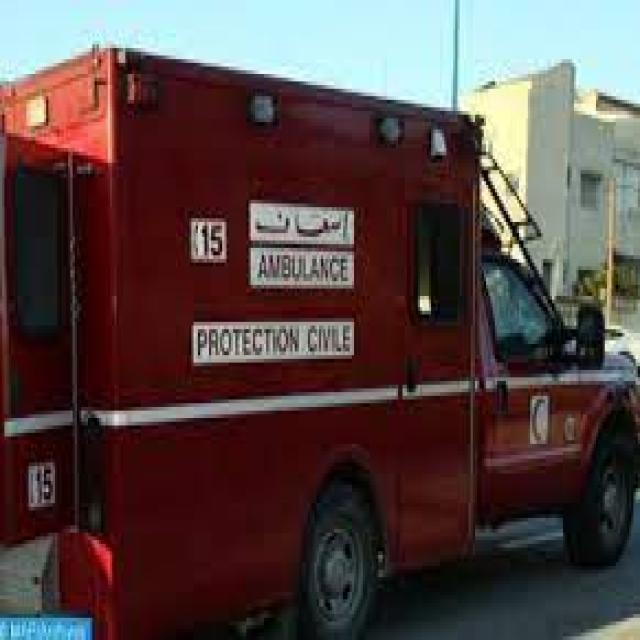ambulance: (1, 69, 639, 640)
